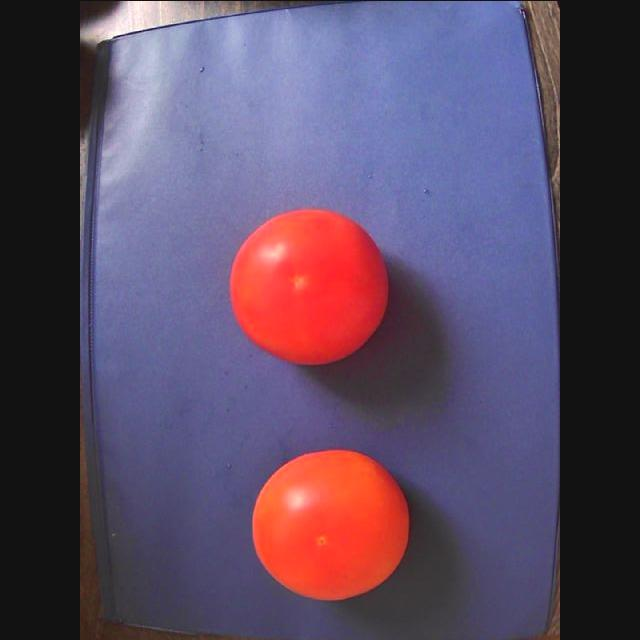tomate: (231, 209, 387, 364), (253, 450, 409, 599)
